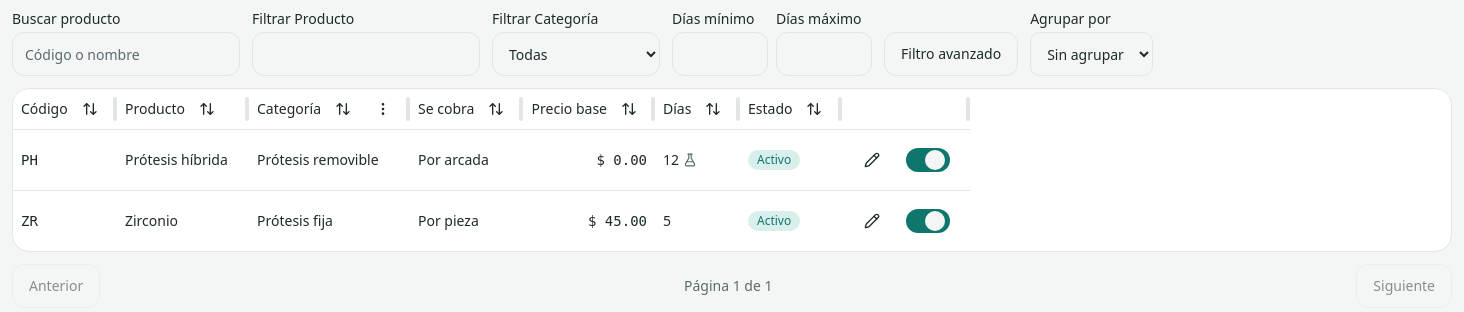
Scenario: ProductsTable › filtra por categoría y por búsqueda sin acentos
Step 1. Select "Prótesis fija" in the dropdown labelled "Filtrar Categoría" → coordinates (576, 54), box [492, 32, 660, 76]
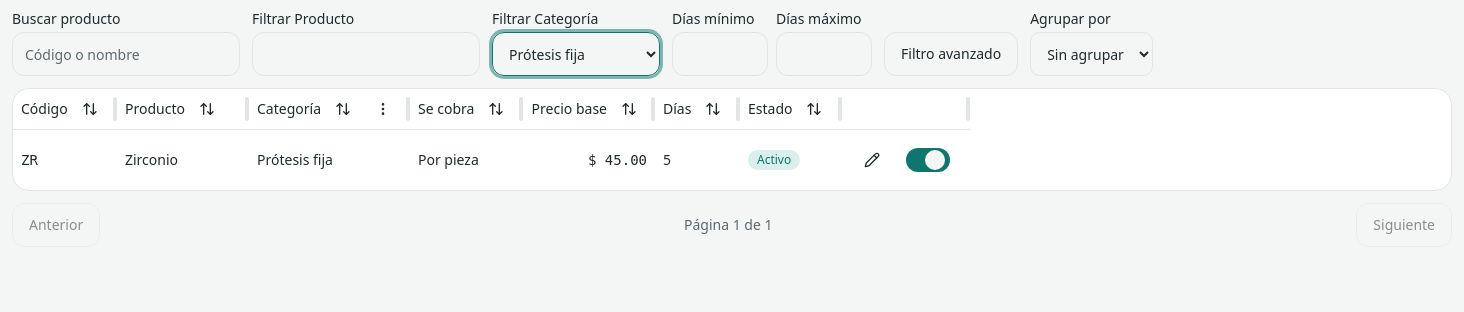
Now the text "Prótesis híbrida" is gone
